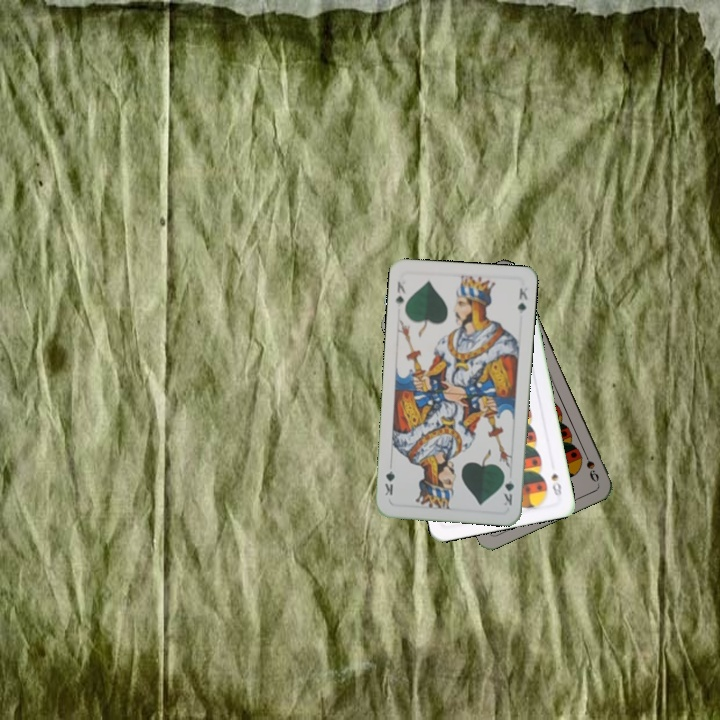GK: (499, 469, 516, 508), (392, 277, 409, 307)
S8: (547, 469, 564, 501)
S9: (579, 446, 602, 485)
